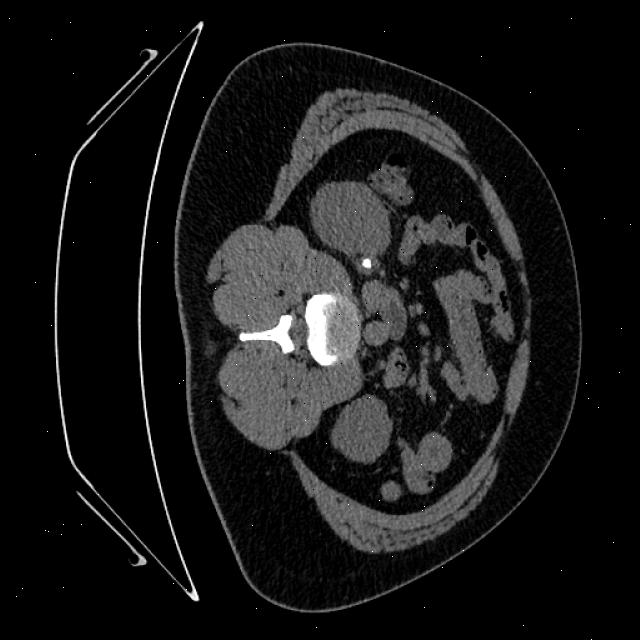kidneystone: (361, 258, 371, 269)
